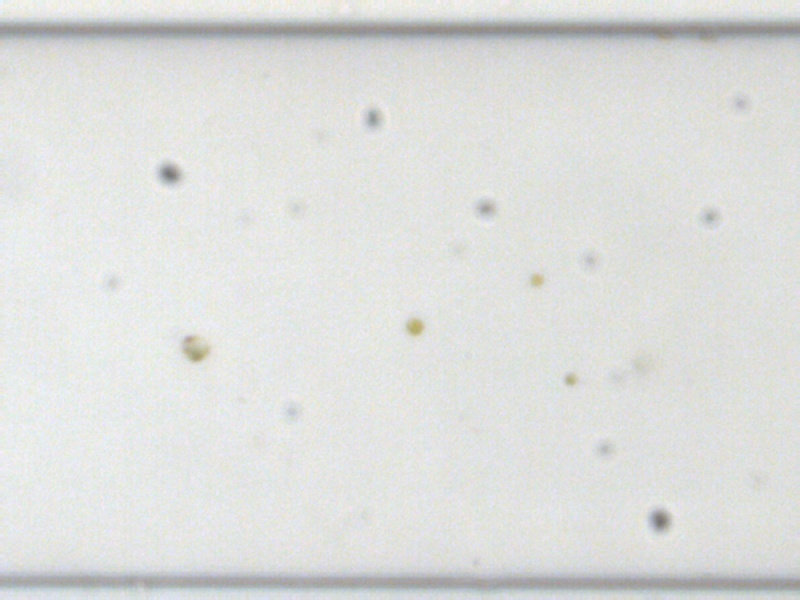Chlorella: (403, 315, 425, 336), (560, 369, 580, 387), (527, 269, 545, 287)
Dunaliella salina: (177, 330, 210, 364)
